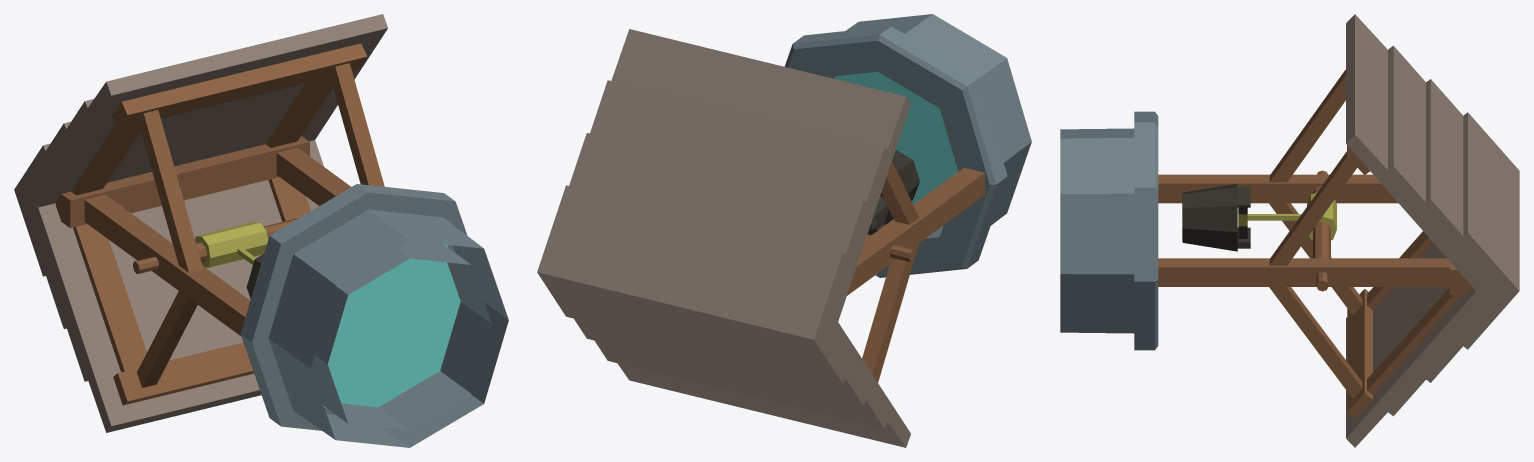
The model's file is Well 01.FBX.
3 renders of one model, left to right at view 1: azimuth 30°, elevation 25°; view 2: azimuth 150°, elevation 25°; view 3: azimuth 270°, elevation 25°, orthographic. The views are drawn at different scales.
Visible parts, largest first — view 1: Well 01; view 2: Well 01; view 3: Well 01.
Boxes of the visible parts, x1,y1,x2,y2 form: Well 01: (14,14,508,447); Well 01: (537,14,1031,447); Well 01: (1060,14,1519,447).
Size of the model in its own units: 209 by 337 by 254.
